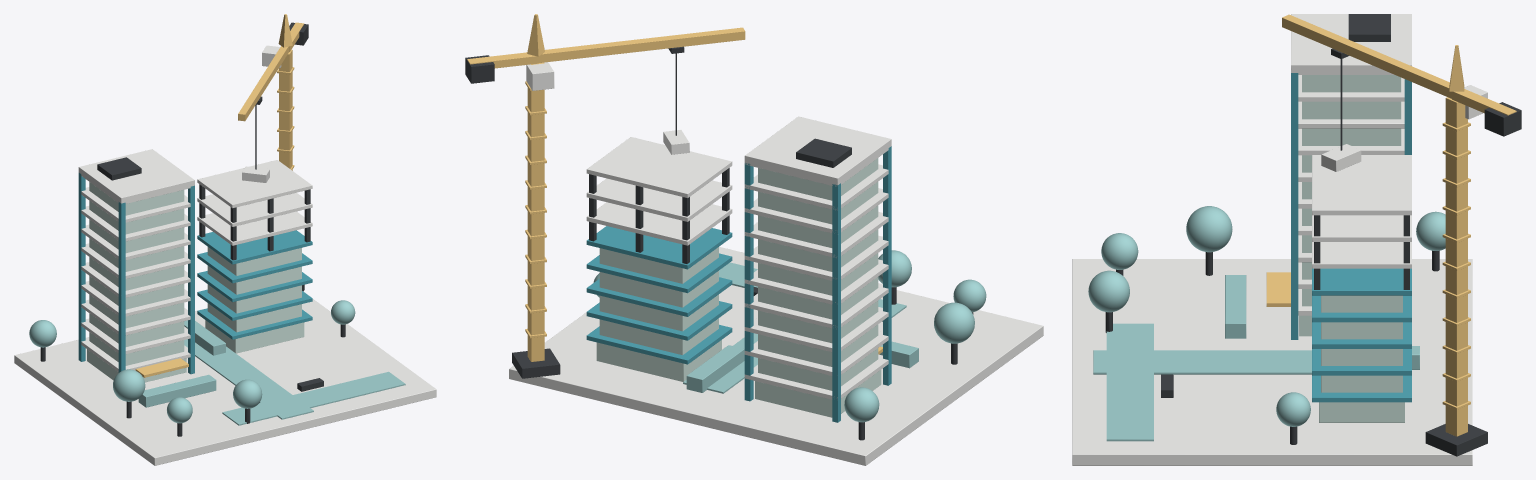
Rendered from real-estate.glb.
3 views of the same model, side by side, from view 1: azimuth 30°, elevation 25°; view 2: azimuth 150°, elevation 25°; view 3: azimuth 270°, elevation 25° (orthographic). The views are drawn at different scales.
Parts seen in each view (by area): view 1: plaza, towerA_core, towerB_core, towerA_parapet, path_b, towerB_slab8, path_a, towerB_slab6, towerB_slab5, towerB_slab7, crane_mast, towerB_lobby (+27 smaller); view 2: plaza, towerA_core, towerB_core, towerB_slab8, towerA_parapet, crane_mast, towerB_slab5, towerB_slab6, towerB_slab7, crane_jib, towerA_pillar-11, towerB_lobby (+30 smaller); view 3: plaza, crane_mast, towerA_core, towerB_core, path_b, towerB_slab8, path_a, towerA_parapet, crane_jib, towerB_slab5, towerB_slab6, towerB_slab7 (+25 smaller).
Part boxes in pixels (bbox=[...]): plaza: bbox=[14, 299, 436, 465]; towerA_core: bbox=[89, 182, 184, 365]; towerB_core: bbox=[207, 247, 301, 332]; towerA_parapet: bbox=[78, 149, 194, 203]; path_b: bbox=[222, 371, 405, 425]; towerB_slab8: bbox=[197, 160, 312, 208]; path_a: bbox=[184, 339, 313, 419]; towerB_slab6: bbox=[197, 211, 312, 245]; towerB_slab5: bbox=[197, 230, 312, 264]; towerB_slab7: bbox=[197, 192, 312, 226]; crane_mast: bbox=[279, 49, 292, 170]; towerB_lobby: bbox=[205, 320, 304, 353]; plaza: bbox=[509, 246, 1043, 465]; towerA_core: bbox=[758, 158, 878, 390]; towerB_core: bbox=[599, 247, 718, 355]; towerB_slab8: bbox=[586, 137, 732, 197]; towerA_parapet: bbox=[744, 116, 891, 184]; crane_mast: bbox=[527, 62, 544, 361]; towerB_slab5: bbox=[586, 226, 732, 269]; towerB_slab6: bbox=[586, 202, 732, 245]; towerB_slab7: bbox=[586, 178, 732, 221]; crane_jib: bbox=[538, 27, 745, 63]; towerA_pillar-11: bbox=[832, 183, 840, 422]; towerB_lobby: bbox=[596, 340, 721, 381]; plaza: bbox=[1072, 259, 1472, 465]; crane_mast: bbox=[1445, 97, 1467, 436]; towerA_core: bbox=[1302, 75, 1401, 306]; towerB_core: bbox=[1321, 295, 1402, 392]; path_b: bbox=[1106, 323, 1153, 441]; towerB_slab8: bbox=[1312, 155, 1411, 215]; path_a: bbox=[1093, 350, 1311, 374]; towerA_parapet: bbox=[1291, 14, 1411, 72]; crane_jib: bbox=[1282, 14, 1451, 98]; towerB_slab5: bbox=[1312, 268, 1411, 295]; towerB_slab6: bbox=[1312, 242, 1411, 268]; towerB_slab7: bbox=[1312, 215, 1411, 241].
Bounding box in the file's own units: 4.76 × 4.29 × 4.26.
